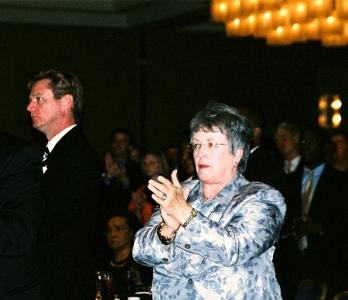person without safety: (135, 102, 291, 279), (12, 60, 107, 190)
